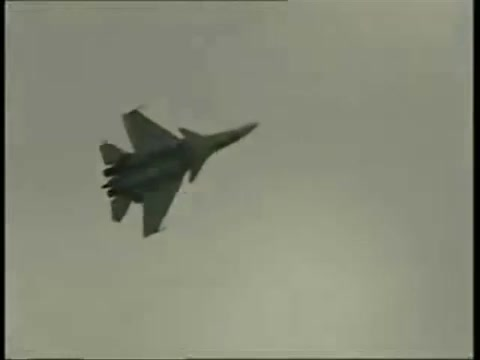aeroplane: (98, 108, 259, 239)
